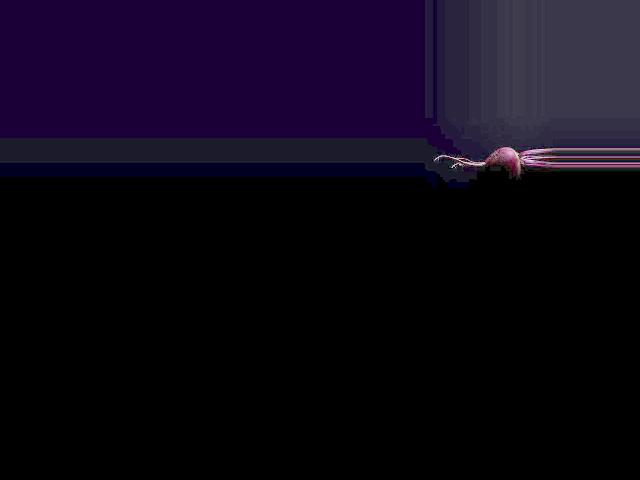beet: (434, 145, 556, 179)
